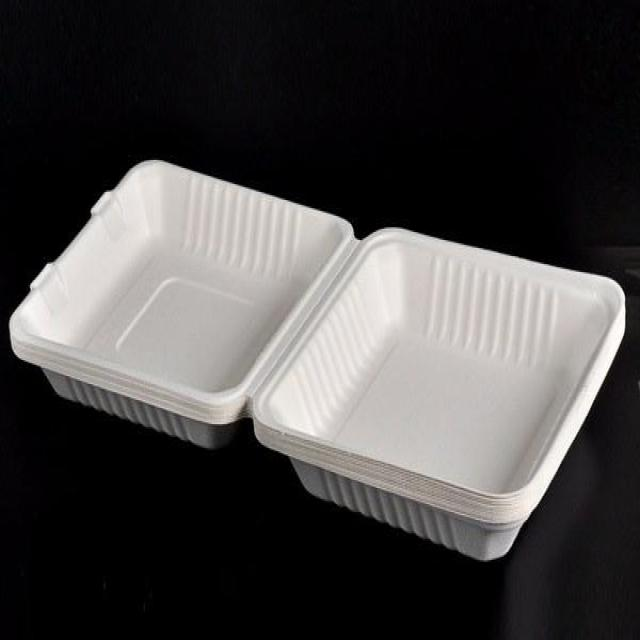styrofoam: (8, 155, 627, 562)
